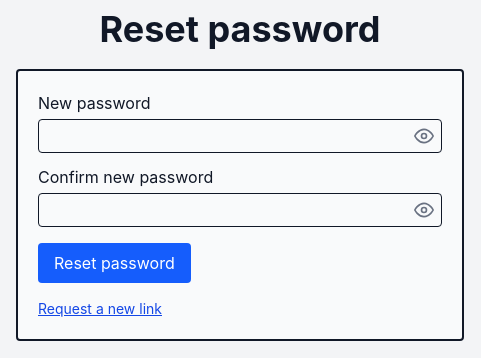
Scenario: ResetPassword › resets the password with the token from the link
Type "newpassword456" into the password field labelled "New password".
click(240, 136); type("newpassword456")  # box [38,119,442,153]
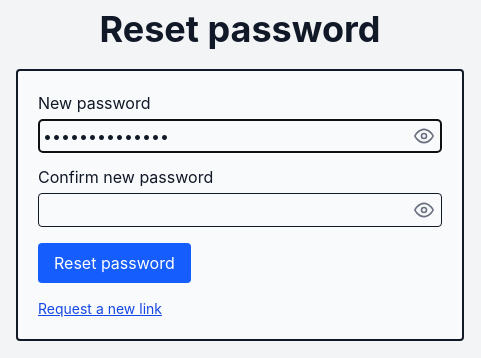
Type "newpassword456" into the password field labelled "Confirm new password".
click(240, 210); type("newpassword456")  # box [38,193,442,227]
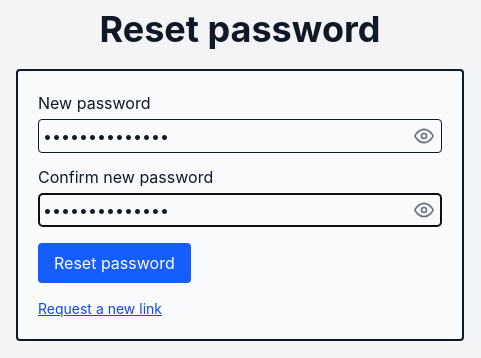
Click the button "Reset password".
click(114, 263)  # box [38,243,191,283]
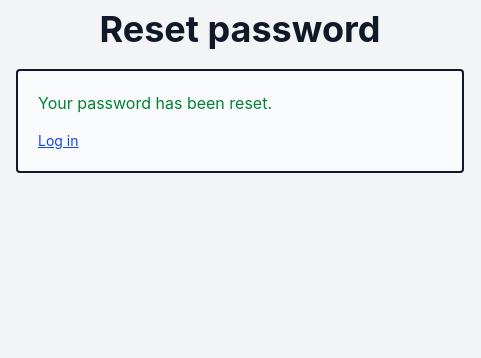
Check: the message reads "Your password has been reset.", box [38,93,272,113]
